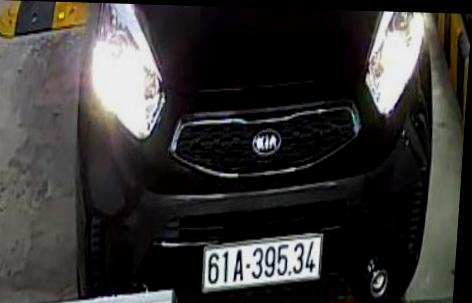License_Plate: (192, 225, 334, 290)
